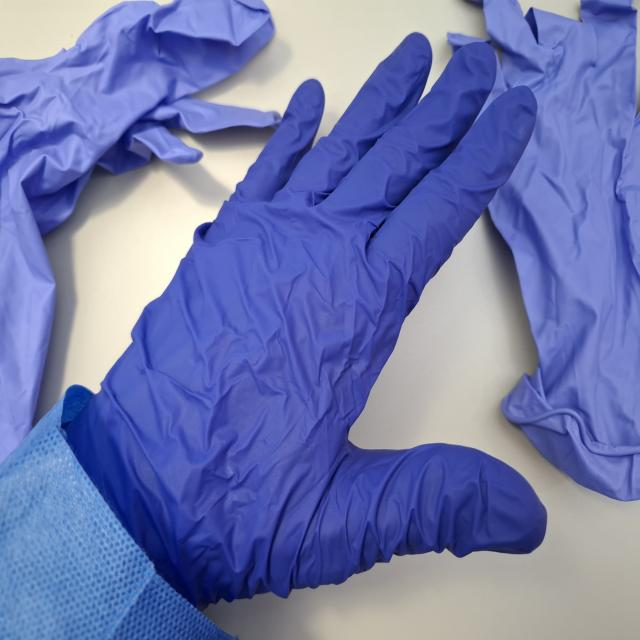glove_on: (57, 27, 552, 615)
